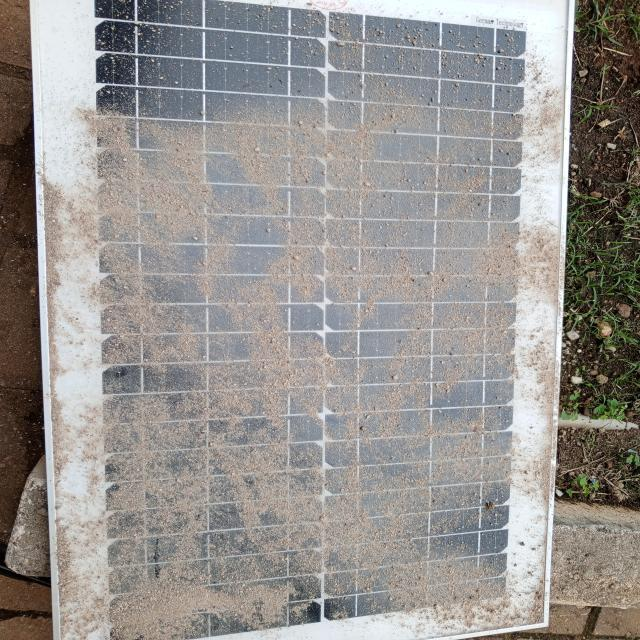Anomaly Solar Panel: (25, 0, 573, 640)
Surface Contaminant: (72, 39, 549, 625)
